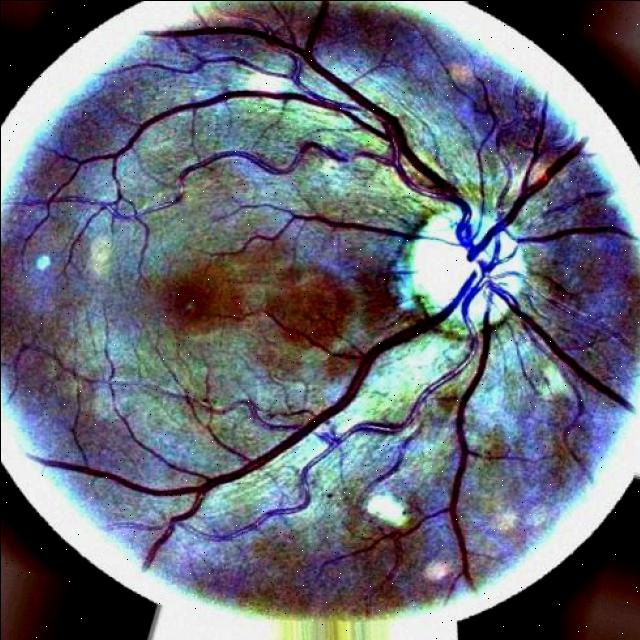Macula: (159, 271, 221, 327)
Nerves: (158, 9, 587, 270), (150, 272, 474, 559), (226, 235, 505, 537), (487, 276, 633, 415), (439, 272, 501, 588)
Optic Disk: (399, 210, 528, 331)
